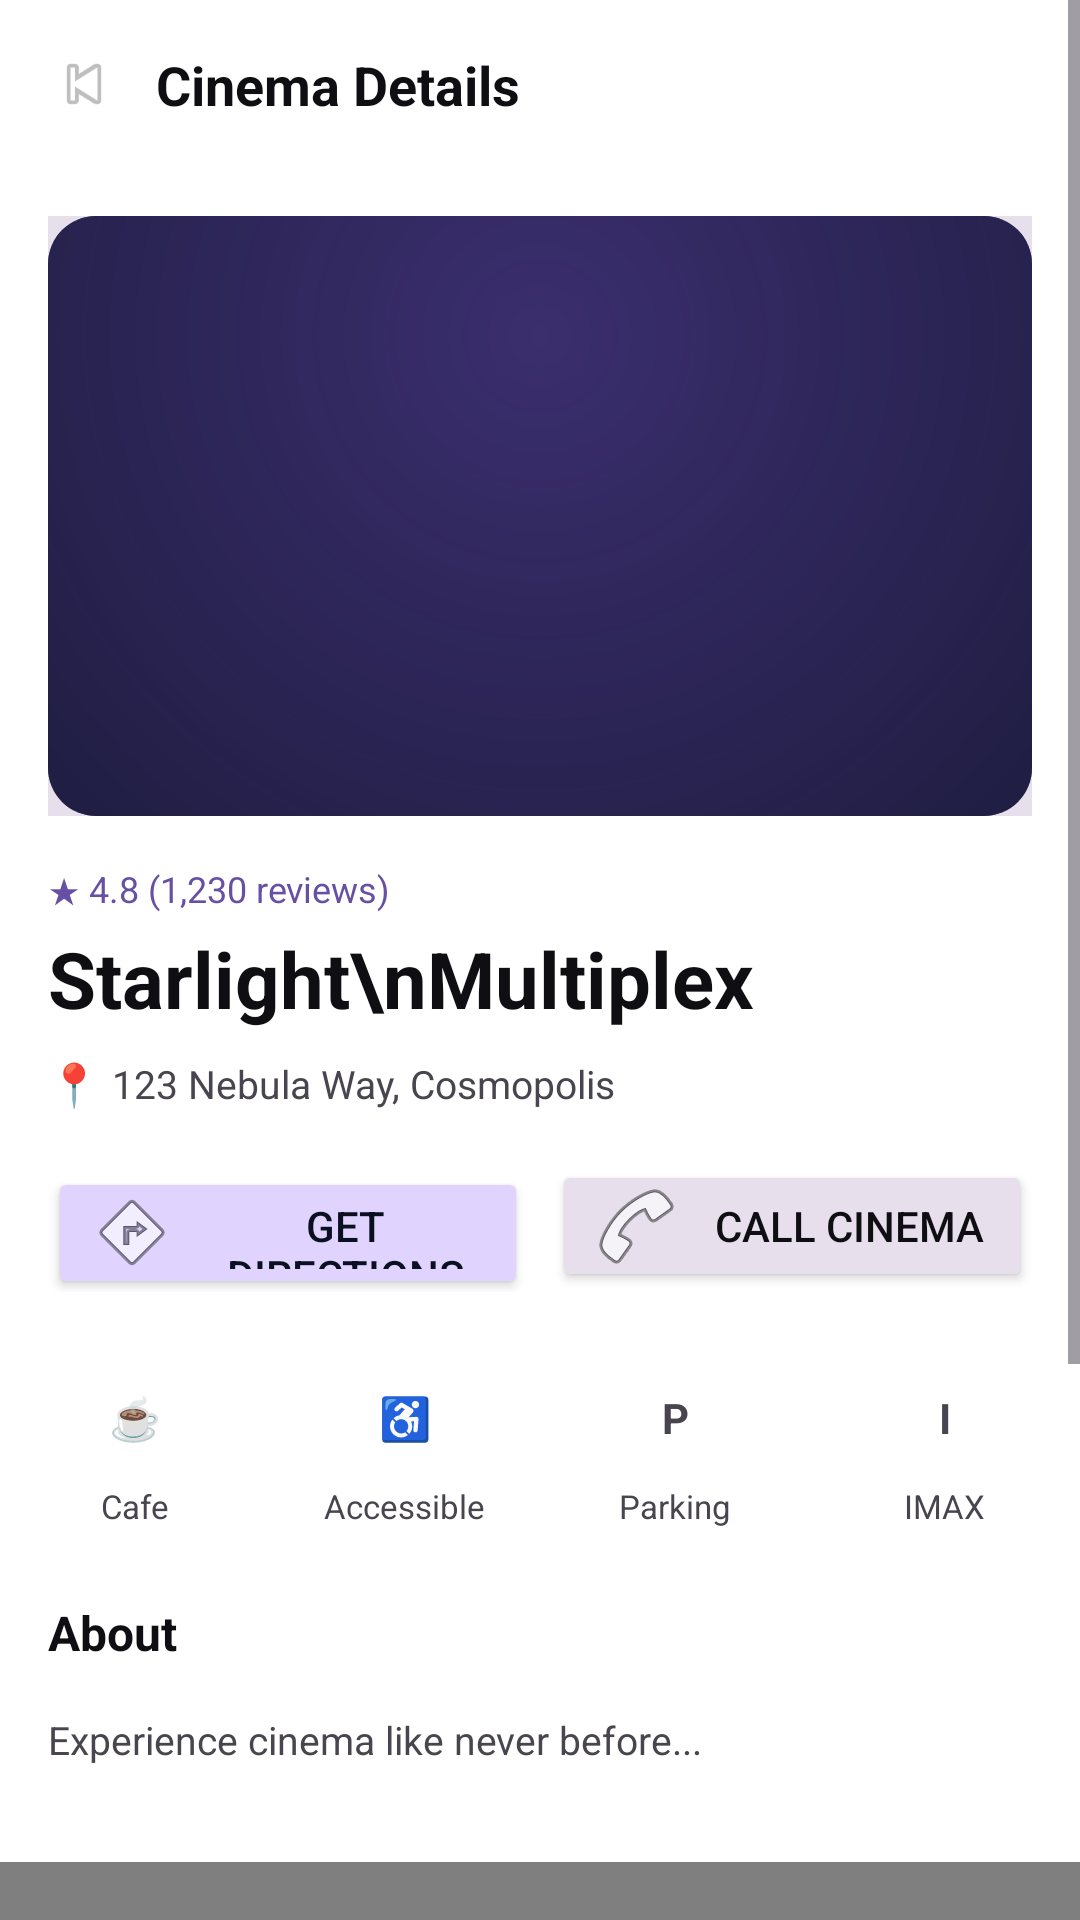

Icons on this 1080px×1920px Android screen, each with the point to tap as point (x, y):
previous: point (84, 84)
